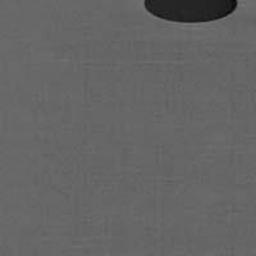Punching: (143, 0, 237, 24)
